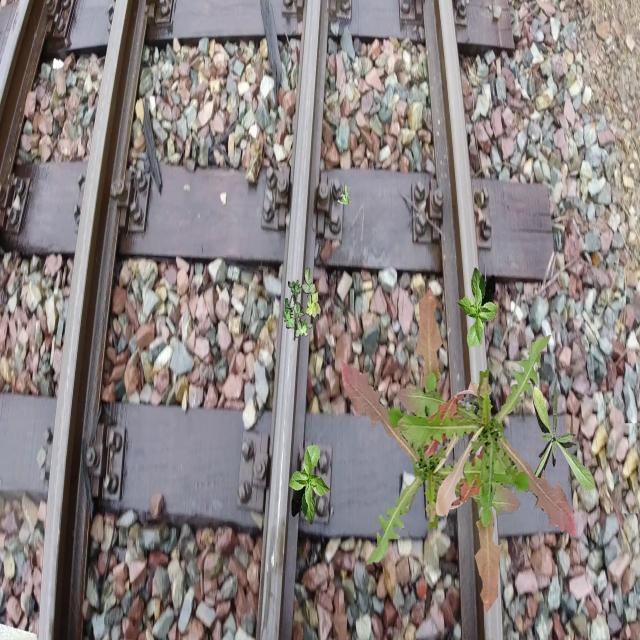Plant: (341, 287, 521, 565), (397, 335, 577, 613), (524, 385, 596, 493), (456, 268, 498, 348), (289, 445, 331, 525), (283, 267, 320, 340), (338, 184, 352, 204)
